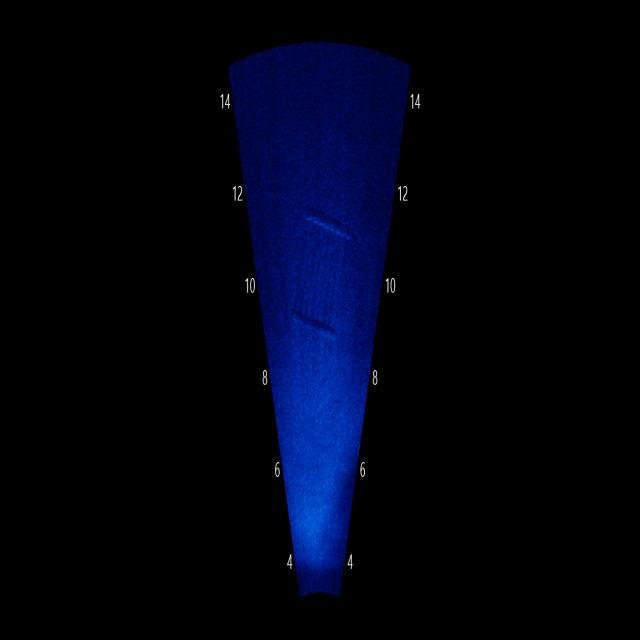square: (289, 188, 355, 358)
